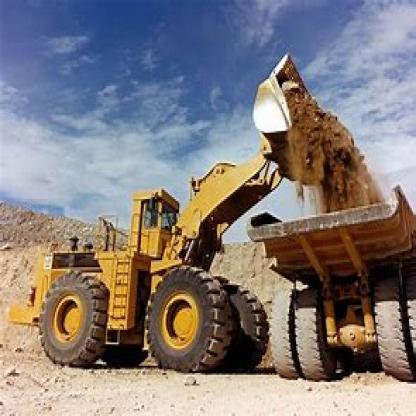bull_dozer/loader/grader: (6, 52, 308, 377)
dump_truck: (245, 181, 414, 391)
